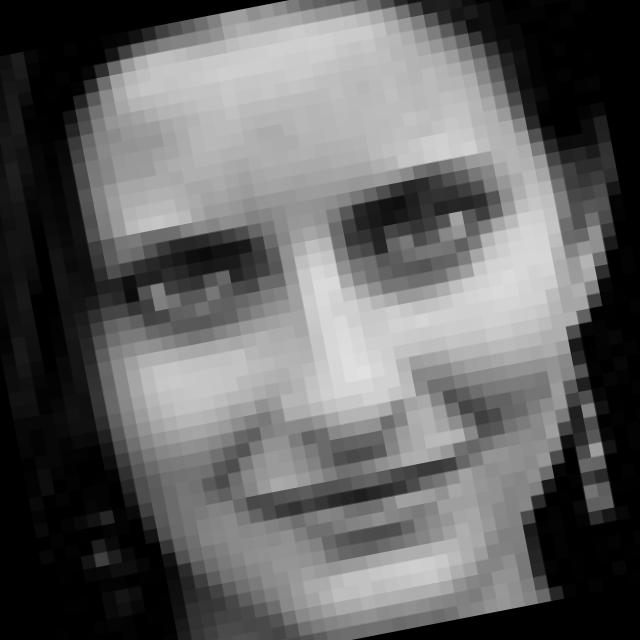neutral: (85, 136, 580, 595)
